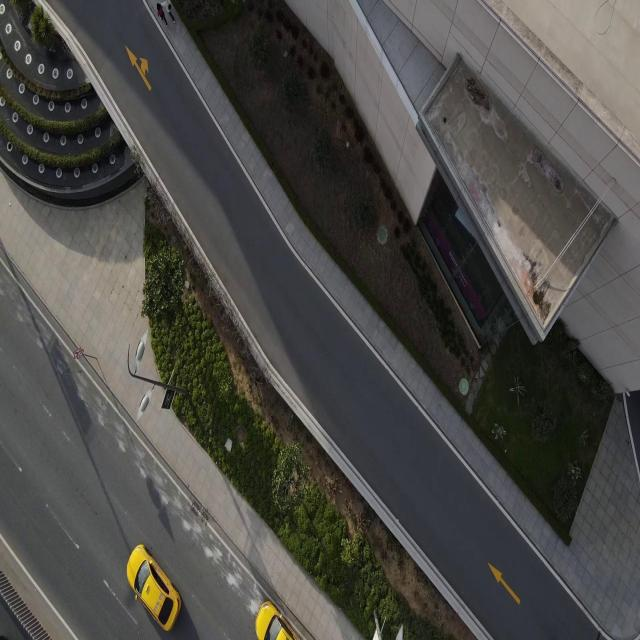p3rson: (160, 0, 177, 24), (156, 4, 168, 28)
